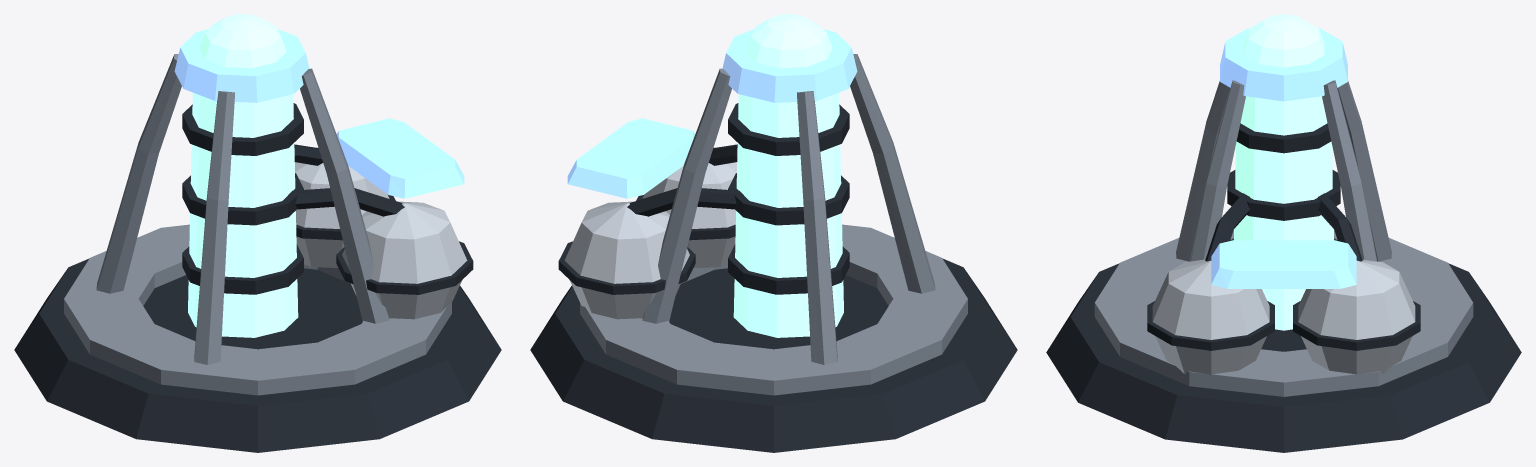
The model's file is aether_tap.glb.
3 renders of one model, left to right at view 1: azimuth 30°, elevation 25°; view 2: azimuth 150°, elevation 25°; view 3: azimuth 270°, elevation 25°, orthographic. The views are drawn at different scales.
Parts seen in each view (by area): view 1: Surf_dark, Surf_armor, Surf_gas, Surf_TEAM, Surf_light; view 2: Surf_dark, Surf_armor, Surf_gas, Surf_TEAM, Surf_light; view 3: Surf_dark, Surf_armor, Surf_light, Surf_gas, Surf_TEAM.
Part boxes in pixels (bbox=[...]): Surf_dark: bbox=[14, 103, 501, 452]; Surf_armor: bbox=[64, 54, 451, 395]; Surf_gas: bbox=[188, 14, 298, 337]; Surf_TEAM: bbox=[174, 29, 464, 198]; Surf_light: bbox=[294, 147, 467, 319]; Surf_dark: bbox=[530, 103, 1017, 452]; Surf_armor: bbox=[580, 54, 967, 395]; Surf_gas: bbox=[733, 14, 843, 337]; Surf_TEAM: bbox=[567, 29, 857, 198]; Surf_light: bbox=[564, 147, 737, 319]; Surf_dark: bbox=[1046, 123, 1521, 452]; Surf_armor: bbox=[1094, 80, 1473, 396]; Surf_light: bbox=[1152, 259, 1415, 374]; Surf_gas: bbox=[1234, 14, 1333, 330]; Surf_TEAM: bbox=[1211, 28, 1356, 288].
Bounding box in the file's own units: 5.1 × 3.86 × 5.1.
